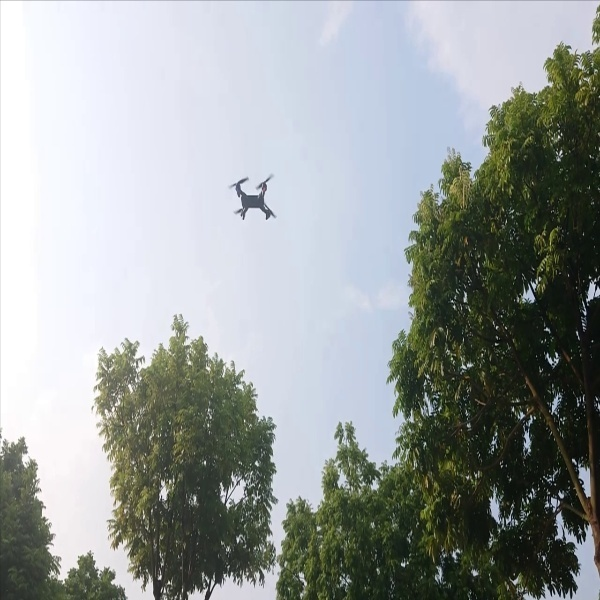drone: (223, 168, 277, 228)
